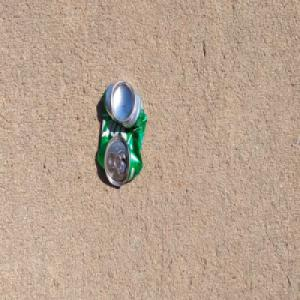SodaCan: (96, 78, 147, 188)
